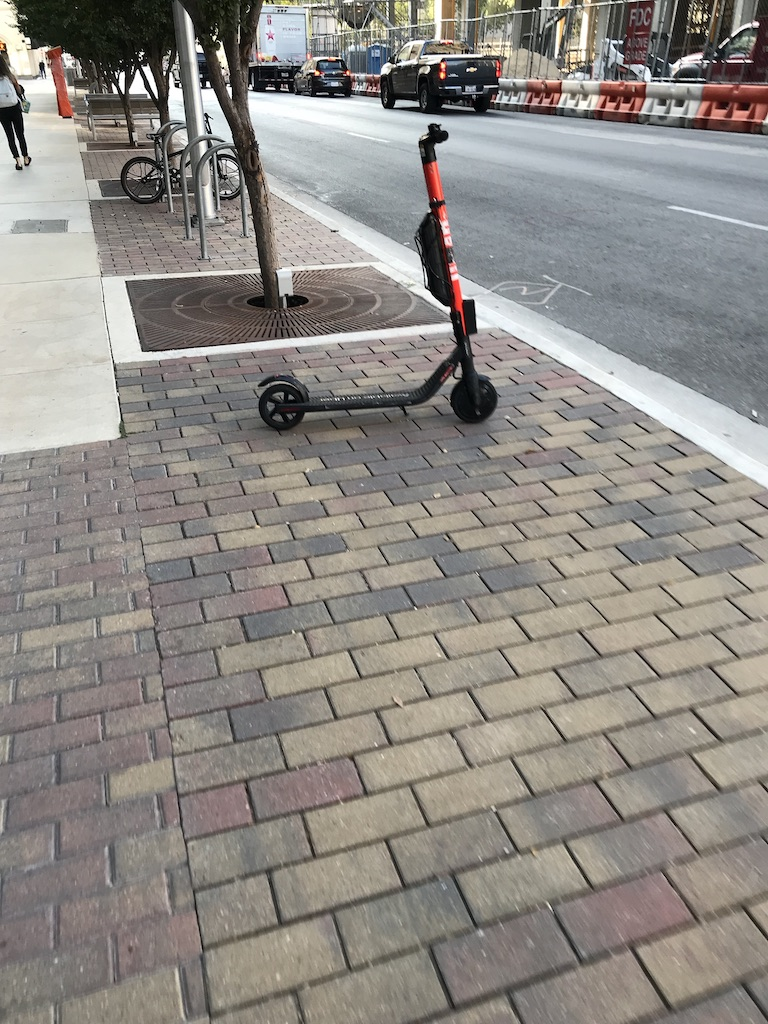scooter: (255, 123, 502, 430)
